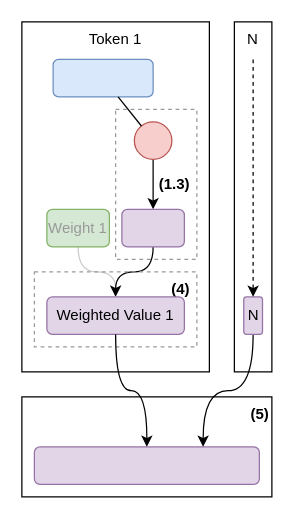
Image size: 294x519. Some labels were removed from this diagram. The shapes that lost their labels are listed below. From the top down, each one's centre as x and y in pixels, then its label:
At [102,77]: "Token".
At [152,140]: "W v".
At [152,227]: "Value 1".
At [146,465]: "Context Vector".
